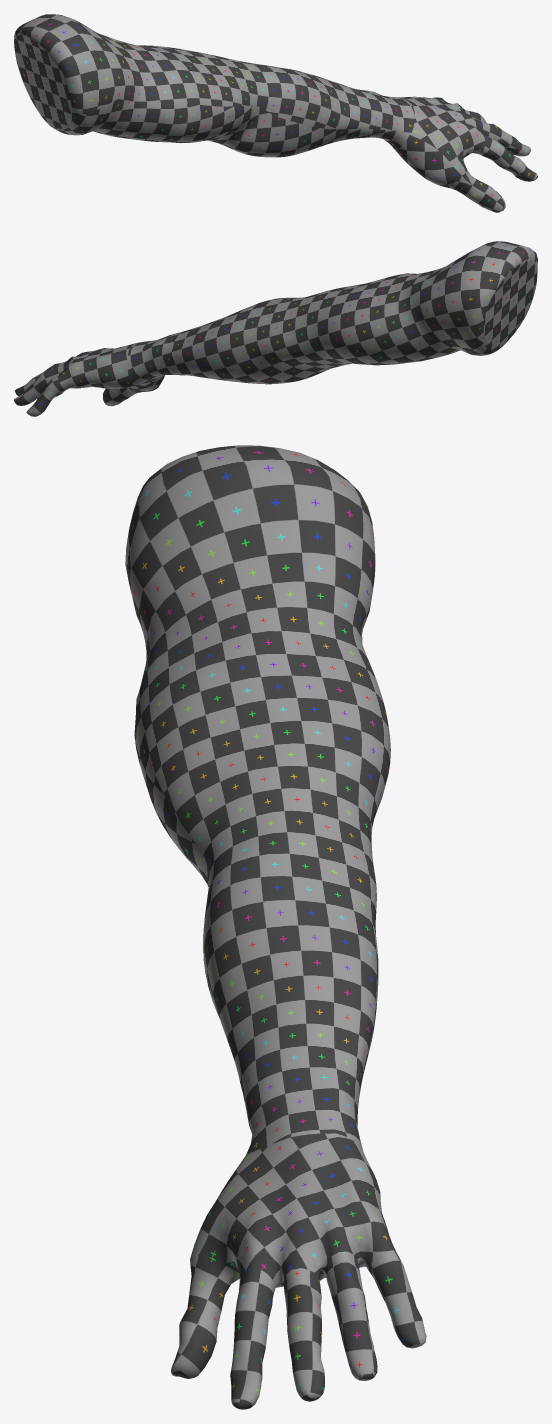
The model's file is arm_left.glb.
The picture shows the model from 3 angles, top to bottom: view 1: azimuth 30°, elevation 25°; view 2: azimuth 150°, elevation 25°; view 3: azimuth 270°, elevation 25°; orthographic projection. The views are drawn at different scales.
Visible parts, largest first — view 1: FinalBaseMesh.003; view 2: FinalBaseMesh.003; view 3: FinalBaseMesh.003.
Boxes of the visible parts, bbox=[...] form: FinalBaseMesh.003: bbox=[14, 14, 537, 212]; FinalBaseMesh.003: bbox=[14, 241, 537, 416]; FinalBaseMesh.003: bbox=[125, 445, 426, 1409].
Size of the model in its own units: 8.01 by 4.18 by 2.15.
1 material, 1 textured.
